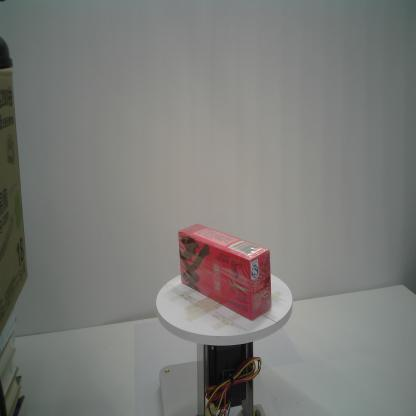Instant Drink: (178, 223, 272, 321)
